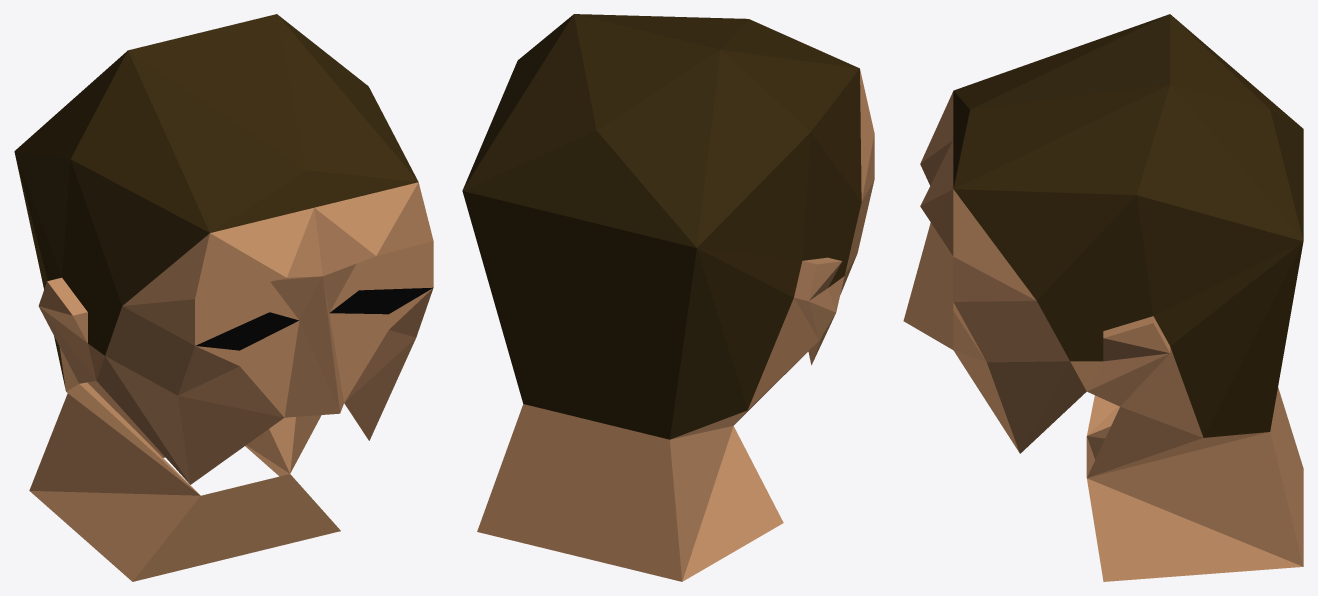
Rendered from model_215_idk.obj.
3 renders of one model, left to right at view 1: azimuth 30°, elevation 25°; view 2: azimuth 150°, elevation 25°; view 3: azimuth 270°, elevation 25°, orthographic. The views are drawn at different scales.
Parts seen in each view (by area): view 1: 215; view 2: 215; view 3: 215.
Boxes of the visible parts, x1,y1,x2,y2 form: 215: (14, 14, 433, 581); 215: (462, 14, 874, 581); 215: (903, 14, 1303, 581).
Bounding box in the file's own units: 22 × 32 × 24.
